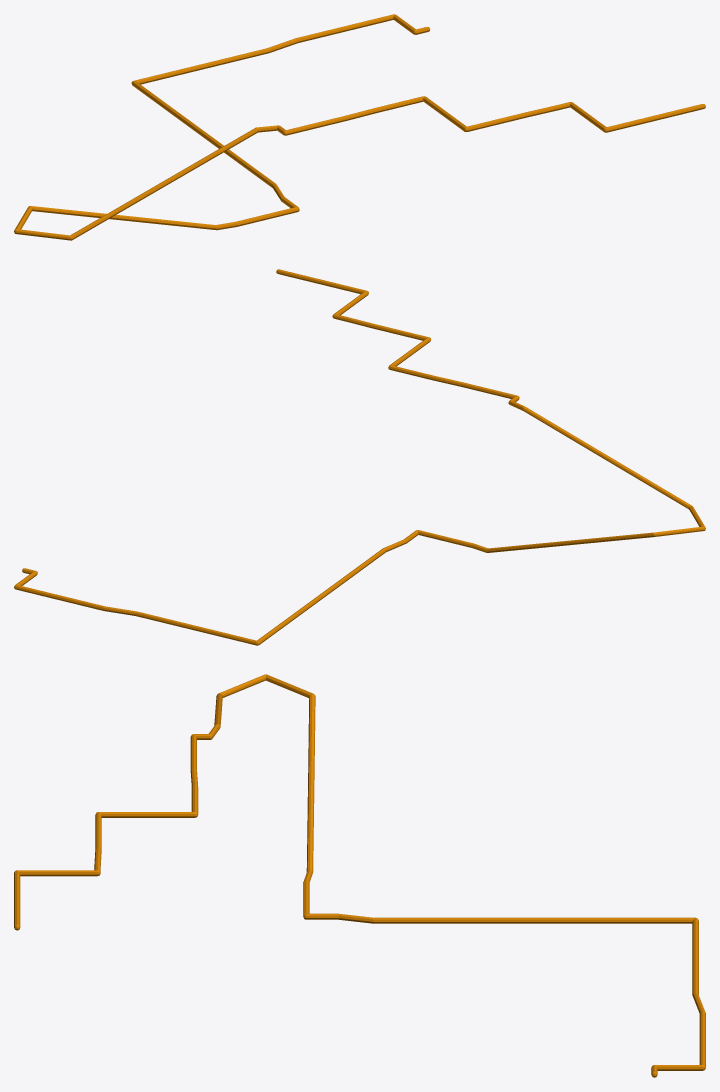
The picture shows the model from 3 angles, top to bottom: view 1: azimuth 30°, elevation 25°; view 2: azimuth 150°, elevation 25°; view 3: azimuth 270°, elevation 25°; orthographic projection. The views are drawn at different scales.
Size of the model in its own units: 2408 by 520 by 2152.
